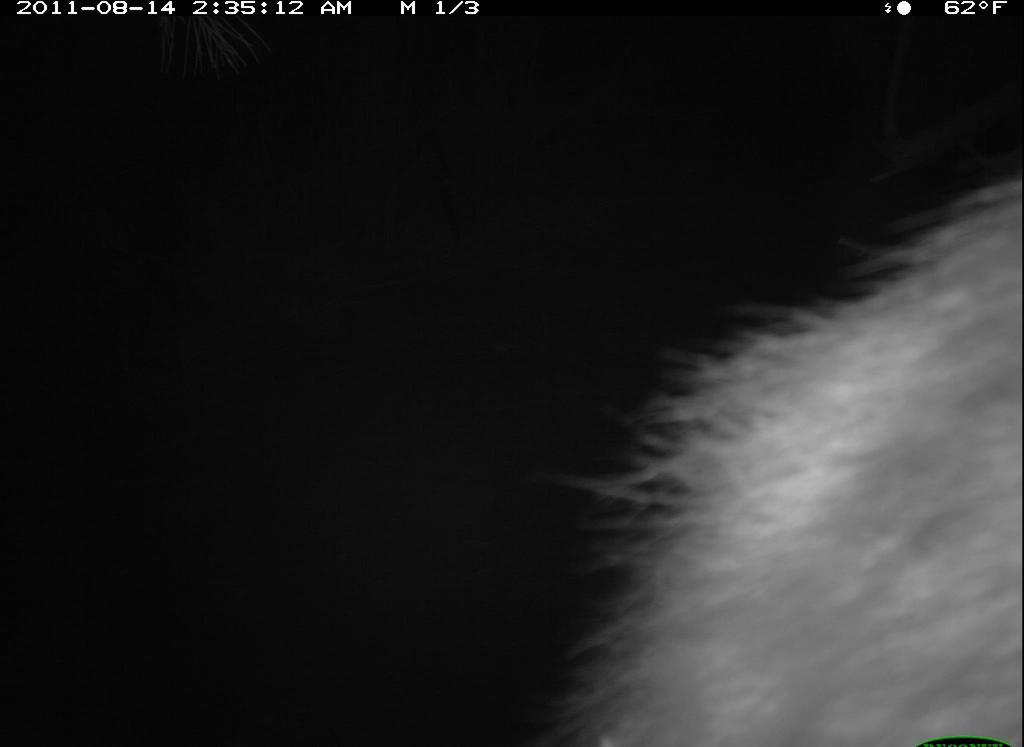raccoon: (546, 169, 1022, 745)
